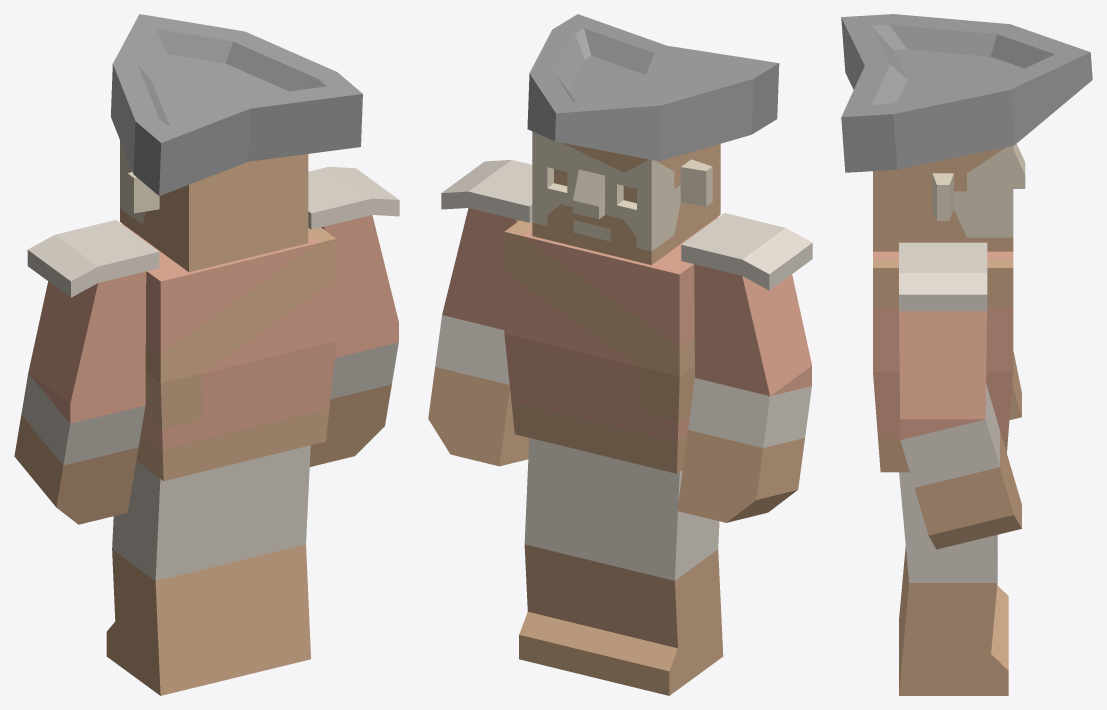
The model's file is pirate_captain.glb.
3 renders of one model, left to right at view 1: azimuth 30°, elevation 25°; view 2: azimuth 150°, elevation 25°; view 3: azimuth 270°, elevation 25°, orthographic.
Visible parts, largest first — view 1: FaceHair_Boots, Jacket, WhiteDetails, Hat, Face; view 2: FaceHair_Boots, Jacket, WhiteDetails, Hat, Face; view 3: FaceHair_Boots, Hat, Jacket, WhiteDetails, Face.
Part boxes in pixels (x1,y1,x2,y2): FaceHair_Boots: [14, 154, 391, 695]; Jacket: [28, 215, 398, 448]; WhiteDetails: [21, 166, 399, 580]; Hat: [110, 14, 362, 195]; Face: [120, 141, 159, 224]; FaceHair_Boots: [428, 142, 804, 695]; Jacket: [442, 208, 811, 441]; WhiteDetails: [435, 160, 812, 580]; Hat: [527, 14, 779, 161]; Face: [532, 131, 712, 251]; FaceHair_Boots: [873, 147, 1021, 695]; Hat: [841, 14, 1092, 172]; Jacket: [873, 251, 1013, 439]; WhiteDetails: [899, 242, 999, 582]; Face: [932, 144, 1025, 237].
Size of the model in its own units: 0.6286 by 1.09 by 0.4096.
